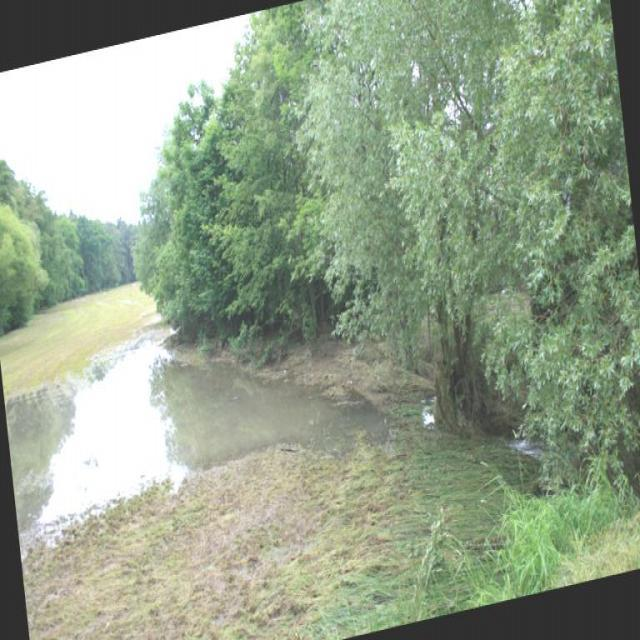flood: (2, 284, 391, 545)
